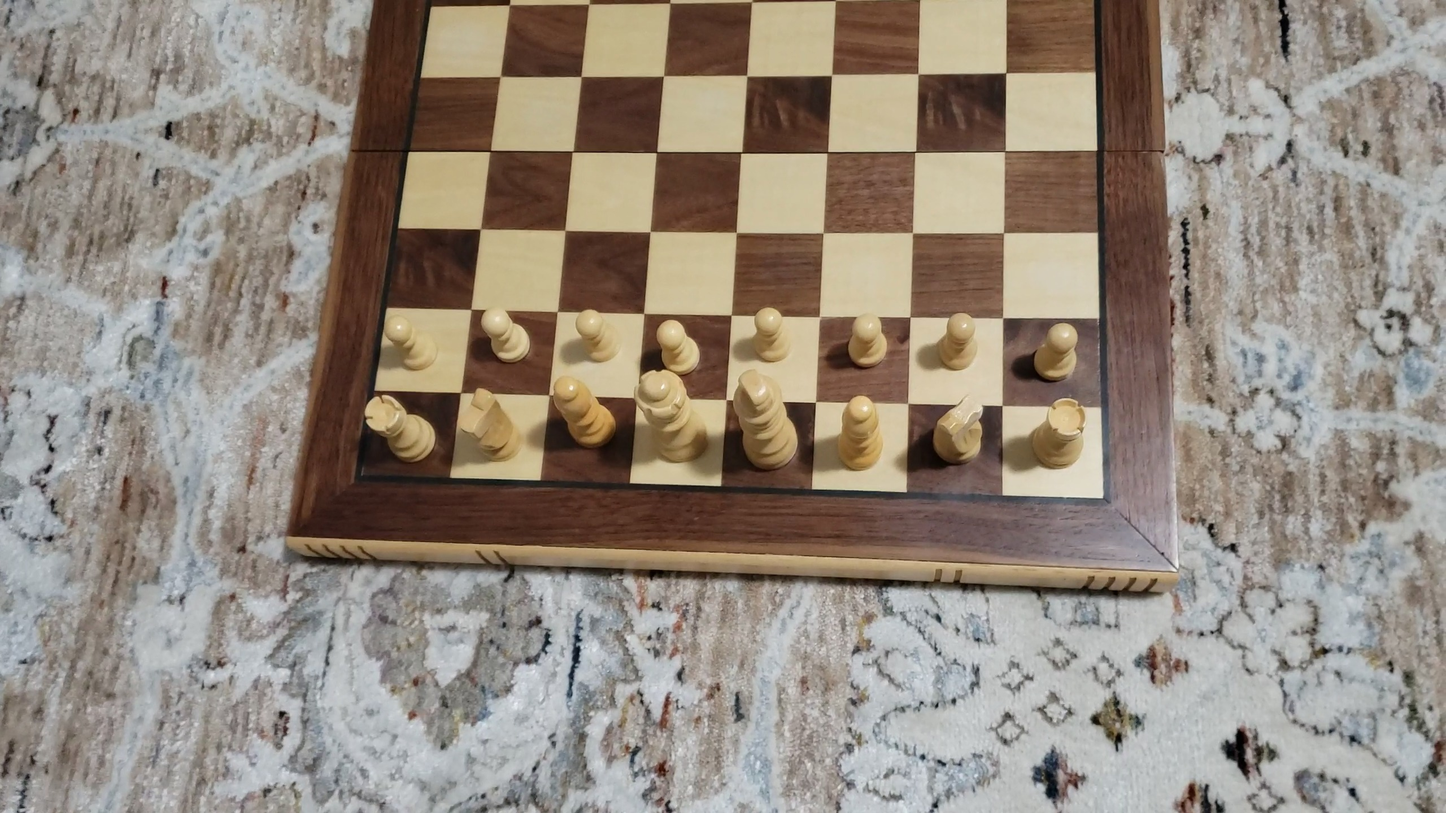white-bishop: (550, 375, 618, 451), (834, 391, 887, 476)
white-king: (730, 369, 801, 474)
white-knight: (927, 391, 988, 469), (463, 384, 520, 461)
white-pawn: (380, 308, 442, 374), (1029, 318, 1082, 387), (476, 304, 533, 365), (934, 307, 982, 374), (842, 311, 892, 372), (571, 305, 620, 365), (654, 316, 702, 377), (747, 302, 792, 367)
white-queen: (630, 369, 712, 467)
white-rook: (363, 392, 441, 464), (1028, 394, 1090, 471)
